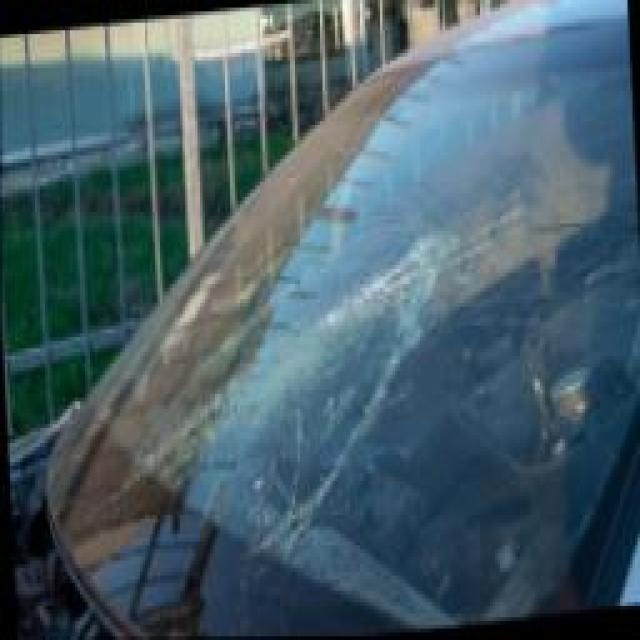Windshield: (70, 197, 492, 640)
